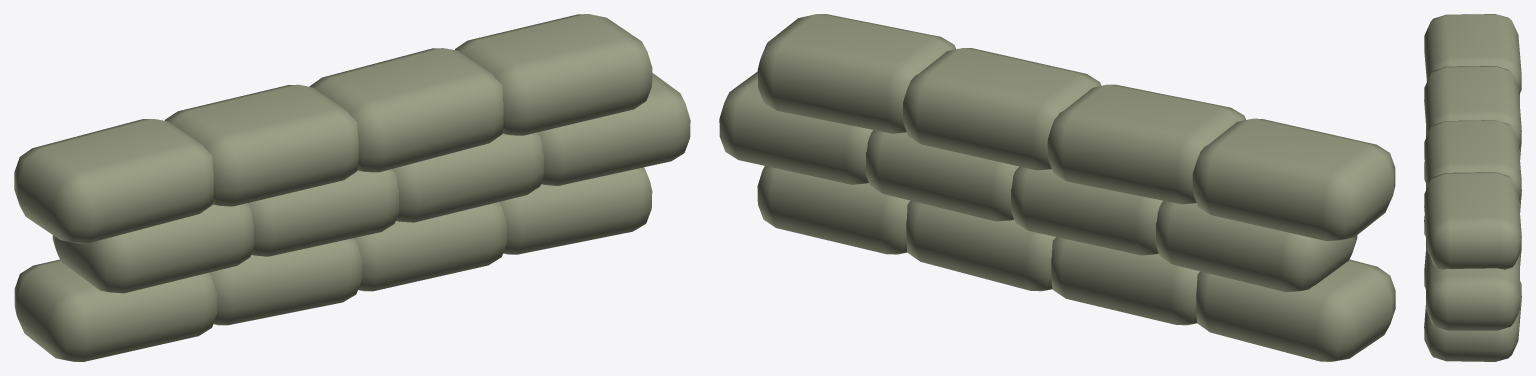
File: STK-B01.fbx
3 views of the same model, side by side, from view 1: azimuth 30°, elevation 25°; view 2: azimuth 150°, elevation 25°; view 3: azimuth 270°, elevation 25° (orthographic). The views are drawn at different scales.
Parts seen in each view (by area): view 1: STK-B01_Canvas; view 2: STK-B01_Canvas; view 3: STK-B01_Canvas.
Part boxes in pixels (x1,y1,x2,y2): STK-B01_Canvas: (14,14,690,361); STK-B01_Canvas: (719,14,1395,361); STK-B01_Canvas: (1424,14,1521,361).
Bounding box in the file's own units: 335 × 97.46 × 59.04.
